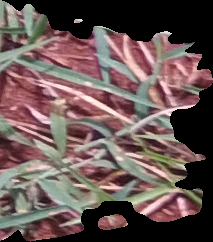grass: (1, 1, 211, 240)
